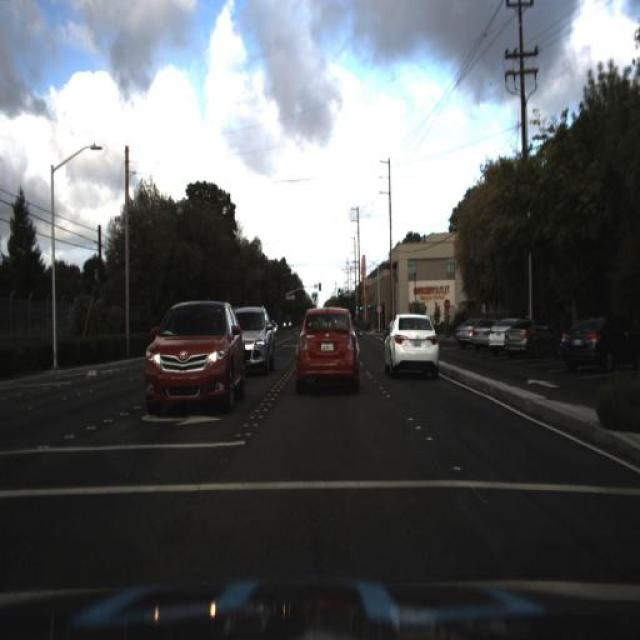car: (138, 296, 244, 415), (291, 299, 361, 399), (554, 312, 634, 368), (382, 310, 440, 378), (233, 300, 275, 379), (504, 322, 554, 356), (460, 314, 490, 348), (485, 317, 511, 353)
